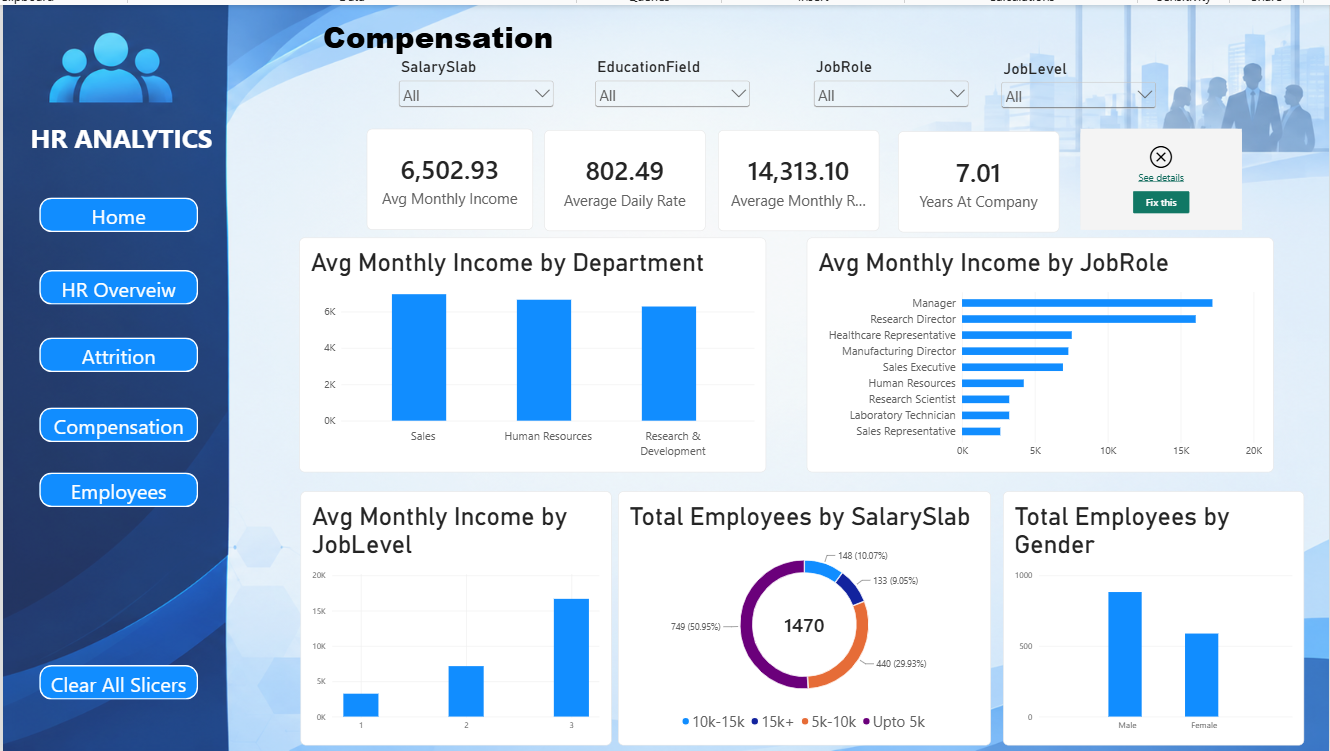

What the dashboard file says about the page in this screenshot:
{"tool":"powerbi","page":{"name":"Compensation","canvas":[1920,1080],"ordinal":3},"visuals":[{"type":"slicer","fields":{"Values":["Fact_HR.SalarySlab"]},"box":[568.2,76,234,90],"z":0,"group":"g1"},{"type":"textbox","box":[39.8,166.5,273.3,63.3],"z":0,"group":"g3"},{"type":"card","fields":{"Values":["Measure.Average Daily Rate"]},"box":[783,181.8,233.4,146.6],"z":0,"group":"g2"},{"type":"slicer","fields":{"Values":["Dim_Education.EducationField"]},"box":[852.2,76,234,90],"z":1000,"group":"g1"},{"type":"card","fields":{"Values":["Measure.Average Monthly Income"]},"box":[526,180,240.7,146.6],"z":1000,"group":"g2"},{"type":"columnChart","fields":{"Category":["Dim_Department.Department"],"Y":["Measure.Average Monthly Income"]},"box":[428,336,676,340],"z":1000},{"type":"slicer","fields":{"Values":["Dim_Job.JobRole"]},"box":[1168.2,76,234,90],"z":2000,"group":"g1"},{"type":"card","fields":{"Values":["Measure.Average Monthly Rate"]},"box":[1034.5,181.8,233.4,146.6],"z":2000,"group":"g2"},{"type":"clusteredBarChart","fields":{"Category":["Dim_Job.JobRole"],"Y":["Measure.Average Monthly Income"]},"box":[1164,336,676,340],"z":2000},{"type":"card","fields":{"Values":["Measure.Employees In High Salary Slab"]},"box":[1559.3,180,233.4,146.6],"z":3000,"group":"g2"},{"type":"clusteredColumnChart","fields":{"Category":["Dim_Job.JobLevel"],"Y":["Measure.Average Monthly Income"]},"box":[430,704,450,368],"z":3000},{"type":"slicer","fields":{"Values":["Dim_Job.JobLevel"]},"box":[1440.2,78,234,90],"z":4000,"group":"g1"},{"type":"card","fields":{"Values":["Measure.Years At Company"]},"box":[1295.1,183.6,233.4,146.6],"z":4000,"group":"g2"},{"type":"donutChart","fields":{"Series":["Fact_HR.SalarySlab"],"Y":["Measure.Total Employees"]},"box":[890,704,540,368],"z":4000},{"type":"columnChart","fields":{"Category":["Dim_Employees.Gender"],"Y":["Measure.Total Employees"]},"box":[1448,704,436,368],"z":5000},{"type":"group","id":"g1","title":"Group 1","box":[568.2,76,1107.5,90.5],"z":6000},{"type":"group","id":"g2","title":"Group 2","box":[526,180,1268,150],"z":7000},{"type":"textbox","box":[464,14,598,74],"z":8000},{"type":"actionButton","box":[52.5,278.7,230,50],"z":9000,"group":"g3"},{"type":"actionButton","box":[52.5,383.7,230,50],"z":10000,"group":"g3"},{"type":"actionButton","box":[52.5,481.4,230,50],"z":11000,"group":"g3"},{"type":"actionButton","box":[52.5,582.7,230,50],"z":12000,"group":"g3"},{"type":"actionButton","box":[52.5,955.5,230,50],"z":13000,"group":"g3"},{"type":"actionButton","box":[52.5,676.8,230,50],"z":14000,"group":"g3"},{"type":"group","id":"g3","title":"Group 3","box":[39.8,166.5,273.3,839],"z":14001}]}

Visuals, with their boxes on the page's 1920x1080 design canvas (x1, y1, x2, y2). These are canvas units, not pixel positions in the 1330x751 screenshot, which may show the page scaled, cropped or inside an application window:
slicer - Fact_HR.SalarySlab: (568, 76, 802, 166)
textbox: (40, 166, 313, 230)
card - Measure.Average Daily Rate: (783, 182, 1016, 328)
slicer - Dim_Education.EducationField: (852, 76, 1086, 166)
card - Measure.Average Monthly Income: (526, 180, 767, 327)
columnChart - Dim_Department.Department x Measure.Average Monthly Income: (428, 336, 1104, 676)
slicer - Dim_Job.JobRole: (1168, 76, 1402, 166)
card - Measure.Average Monthly Rate: (1034, 182, 1268, 328)
clusteredBarChart - Dim_Job.JobRole x Measure.Average Monthly Income: (1164, 336, 1840, 676)
card - Measure.Employees In High Salary Slab: (1559, 180, 1793, 327)
clusteredColumnChart - Dim_Job.JobLevel x Measure.Average Monthly Income: (430, 704, 880, 1072)
slicer - Dim_Job.JobLevel: (1440, 78, 1674, 168)
card - Measure.Years At Company: (1295, 184, 1528, 330)
donutChart - Fact_HR.SalarySlab x Measure.Total Employees: (890, 704, 1430, 1072)
columnChart - Dim_Employees.Gender x Measure.Total Employees: (1448, 704, 1884, 1072)
"Group 1" group: (568, 76, 1676, 166)
"Group 2" group: (526, 180, 1794, 330)
textbox: (464, 14, 1062, 88)
actionButton: (52, 279, 282, 329)
actionButton: (52, 384, 282, 434)
actionButton: (52, 481, 282, 531)
actionButton: (52, 583, 282, 633)
actionButton: (52, 956, 282, 1006)
actionButton: (52, 677, 282, 727)
"Group 3" group: (40, 166, 313, 1006)
